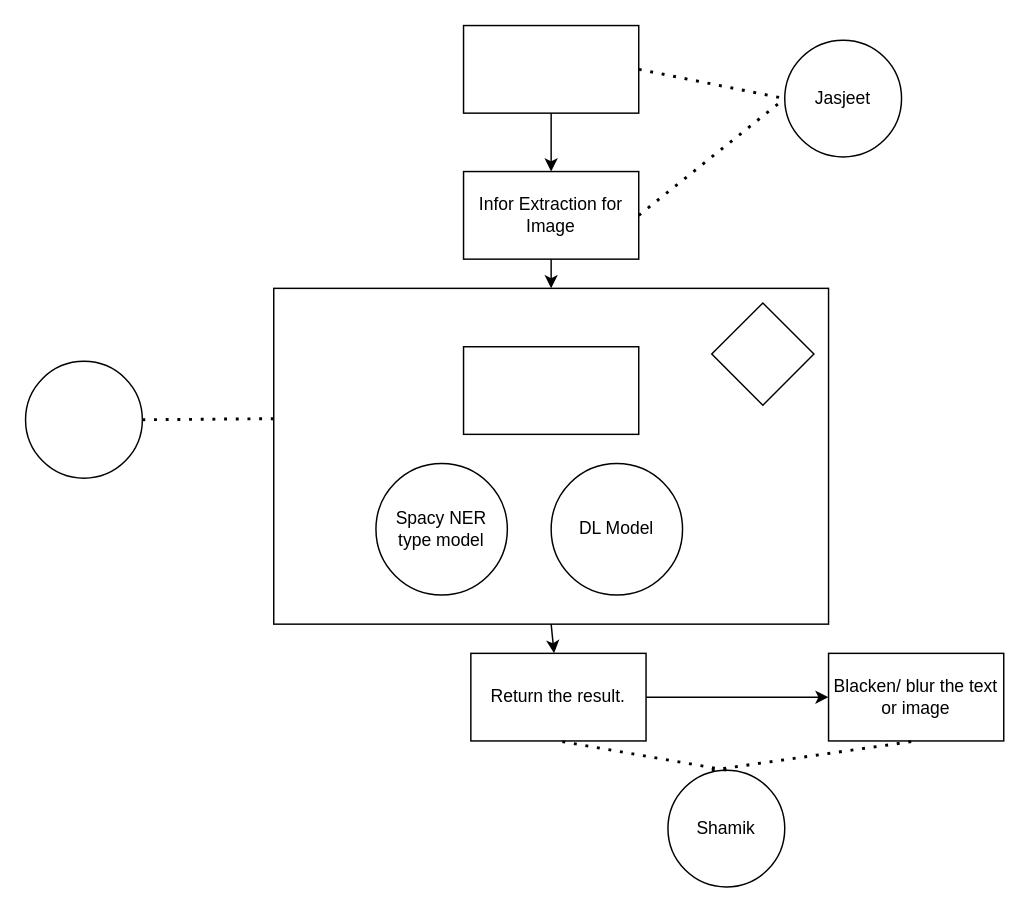
Image size: 1029x913. Some labels were removed from this diagram. The shapes that lost their labels are listed below. From the top down, each one's centre as x and y in pixels, then its label:
(x=550, y=68): WEBSITE - User input for IMg/text.
(x=762, y=353): Imp
(x=550, y=389): Entity Rec Model
(x=83, y=419): Ayush and Vish
